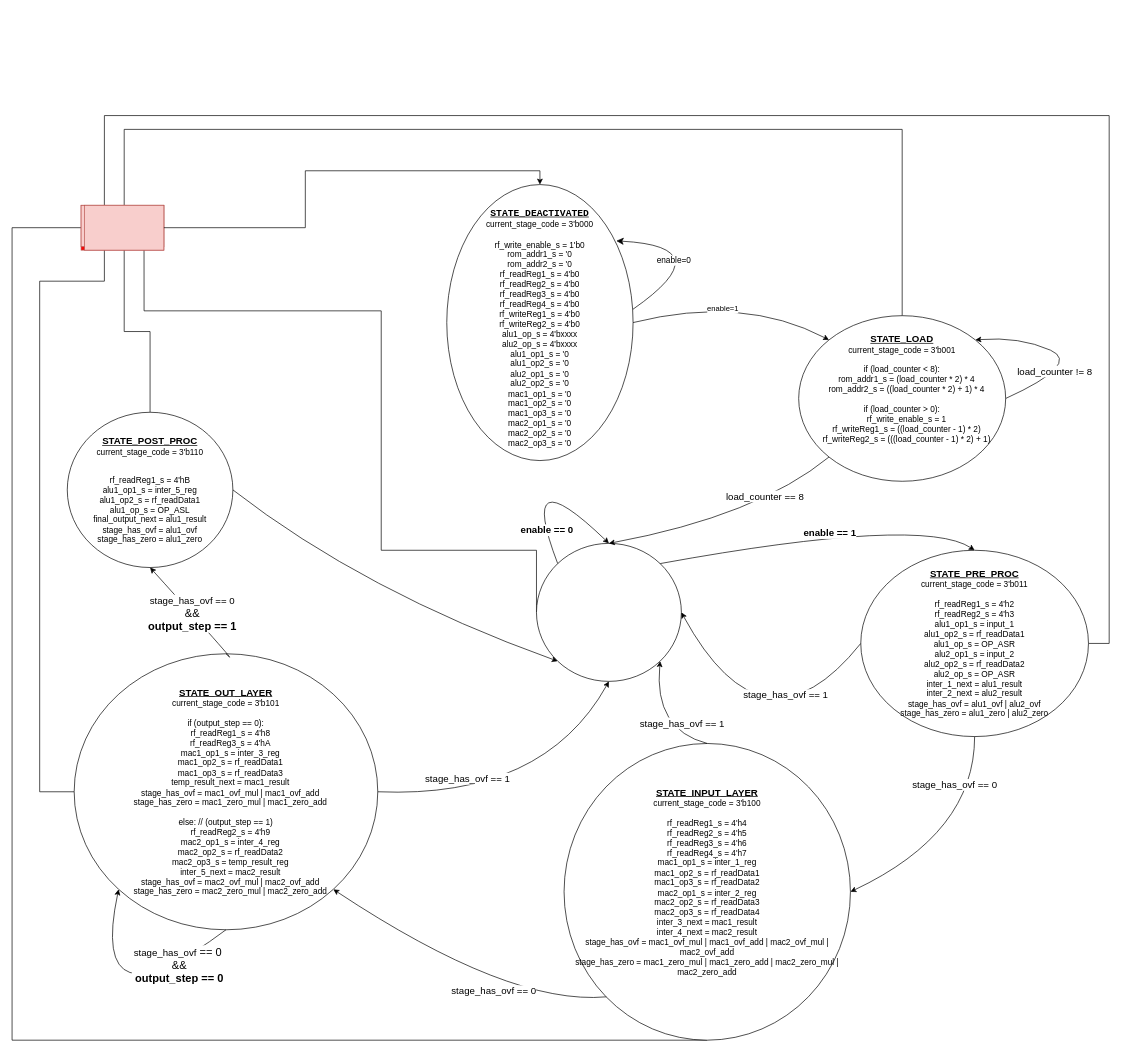
This 1122x1053 diagram has some shape labels left out. Each missing label, with the centre of its shape:
"resetn == 0" goes at [124,227].
"STATE_IDLE current_stage_code = 3'b010 rf_write_enable_s = 0" goes at [608,612].
